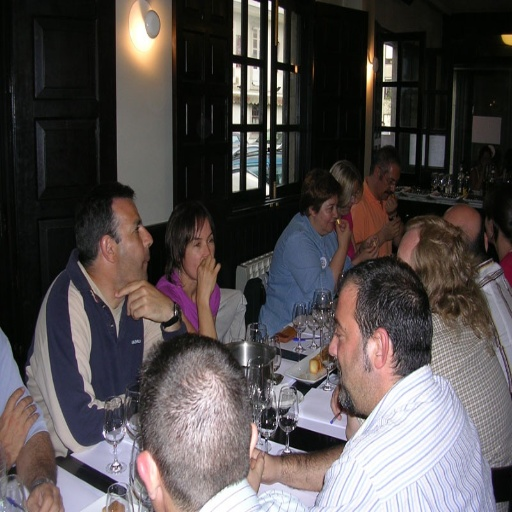hand: (0, 384, 39, 471), (117, 279, 173, 318), (328, 379, 360, 440), (24, 479, 65, 510), (196, 254, 220, 300), (252, 443, 277, 483), (248, 448, 263, 494), (333, 215, 351, 250), (380, 215, 401, 244), (360, 236, 380, 259), (382, 192, 399, 217), (101, 501, 124, 510), (355, 238, 372, 249)
